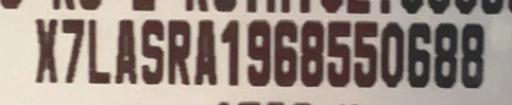letter: (242, 18, 272, 87), (376, 20, 406, 85), (298, 18, 326, 87), (192, 19, 220, 86), (32, 17, 60, 82), (138, 19, 166, 84), (84, 19, 112, 84), (272, 18, 298, 87), (326, 20, 352, 87), (352, 20, 378, 87), (432, 21, 458, 88), (459, 21, 485, 88), (165, 19, 191, 84), (407, 20, 431, 89), (60, 16, 84, 81), (220, 17, 242, 86), (114, 19, 138, 82)
